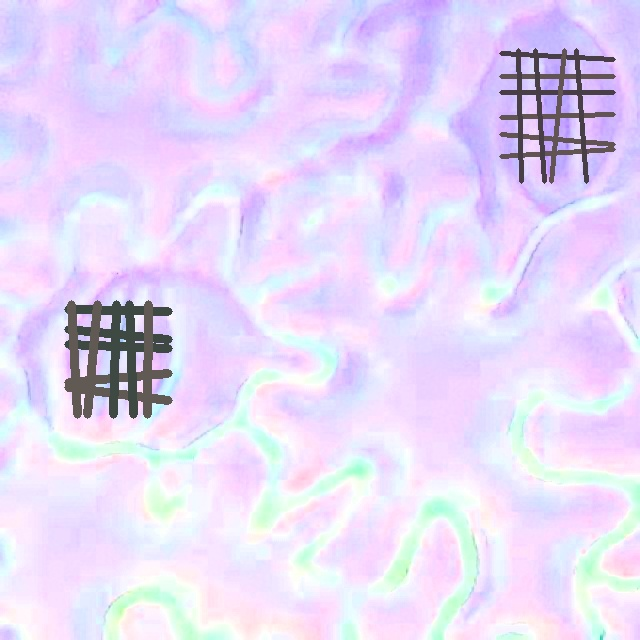open: (499, 48, 615, 183), (65, 301, 171, 418)
